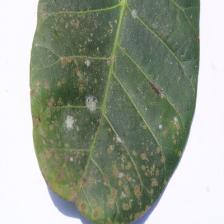red rust: (29, 0, 200, 224)
